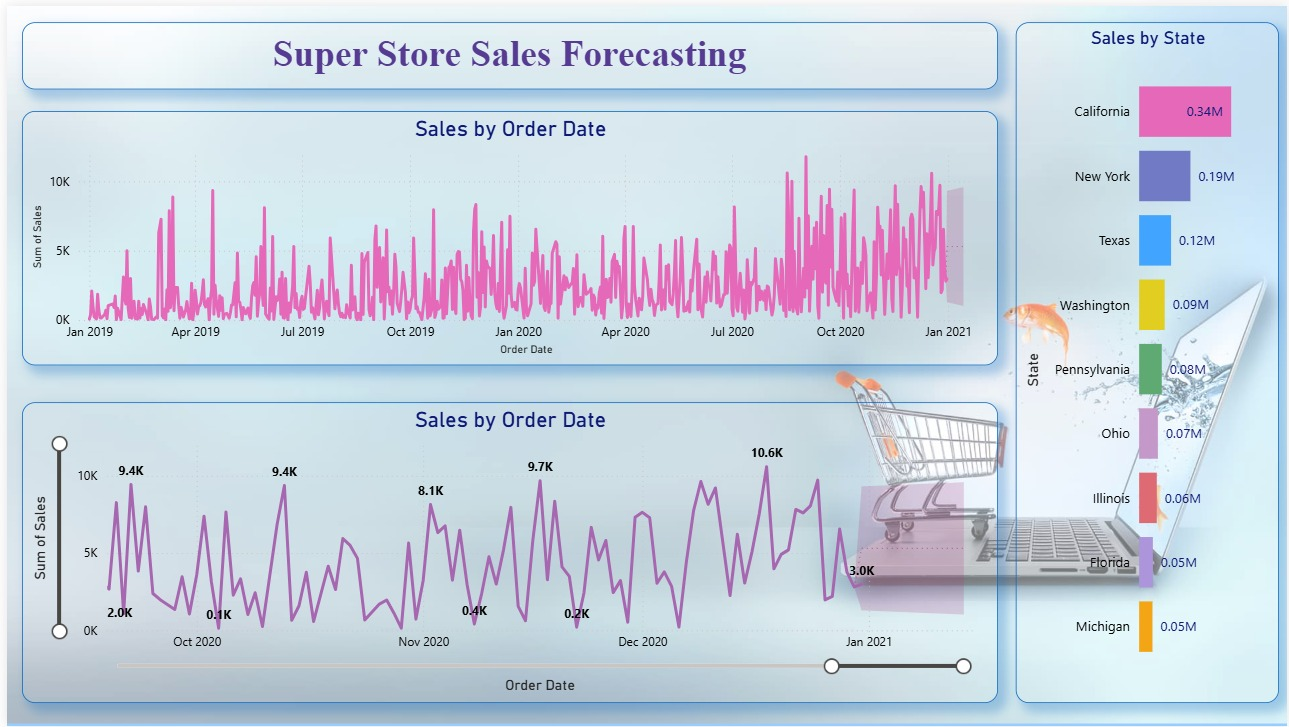

What the dashboard file says about the page in this screenshot:
{"tool":"powerbi","page":{"name":"Page 2","canvas":[1280,720],"ordinal":1},"visuals":[{"type":"lineChart","title":"Sales by Order Date","fields":{"Y":["Sum(Sheet1.Sales)"],"Category":["Sheet1.Order Date"]},"box":[14.7,105.2,975.8,254.3],"z":0},{"type":"lineChart","title":"Sales by Order Date","fields":{"Y":["Sum(Sheet1.Sales)"],"Category":["Sheet1.Order Date"]},"box":[15.1,396.6,975.6,300.5],"z":1000},{"type":"barChart","title":"Sales by State","fields":{"Category":["Sheet1.State"],"Y":["Sum(Sheet1.Sales)"]},"box":[1008.6,16.5,263.5,680.6],"z":2000},{"type":"textbox","box":[15.1,16.5,975.6,67.2],"z":3000}]}

Visuals, with their boxes in screenshot pixels (x1, y1, x2, y2), scaled from the page's 1280x720 canvas onto the 1289x727 screenshot:
"Sales by Order Date" lineChart: Rect(15, 106, 997, 363)
"Sales by Order Date" lineChart: Rect(15, 400, 998, 704)
"Sales by State" barChart: Rect(1016, 17, 1281, 704)
textbox: Rect(15, 17, 998, 85)
